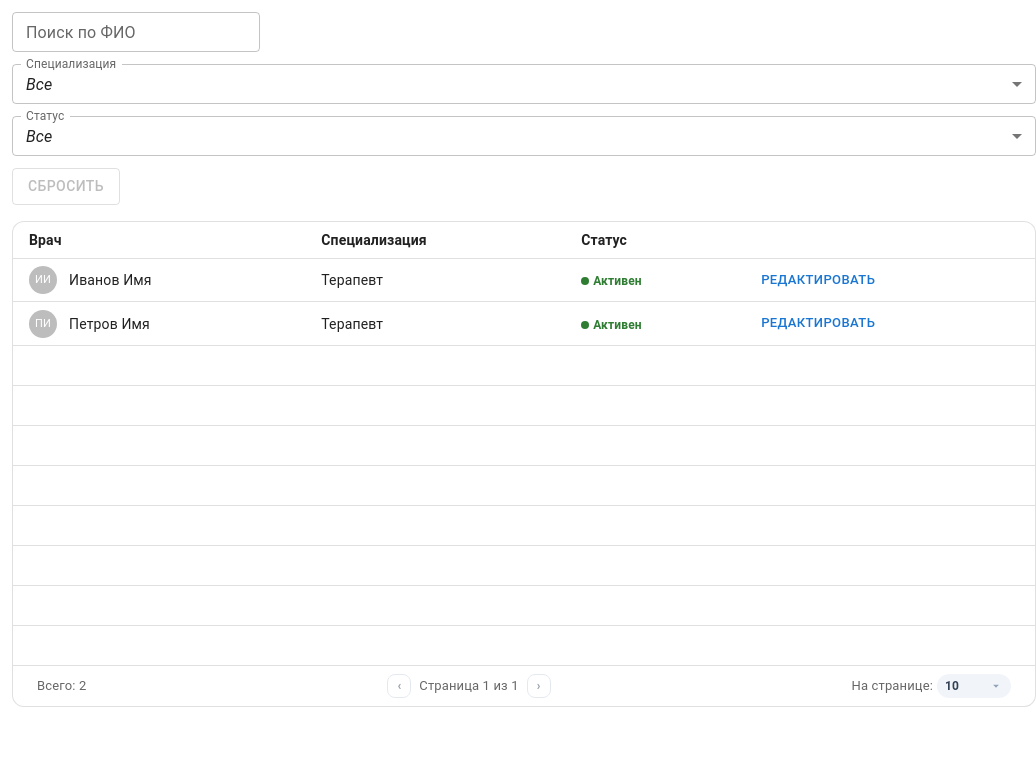
Test: DoctorsTable (3.1: фильтры «специализация/статус» из макета) › фильтр статуса уходит в запрос BFF (status)
Press the mouse on the dropdown named "Статус" at (39, 136), box [26,126,52,146]
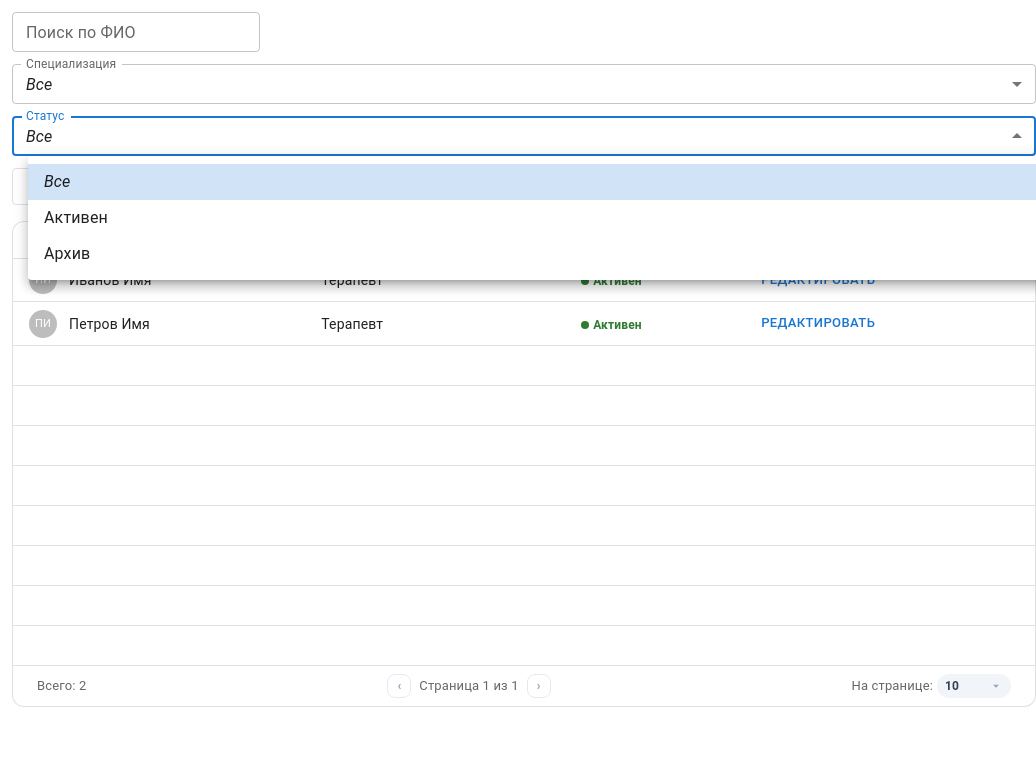
Click the option "Архив" at (67, 254), box [44,244,90,263]
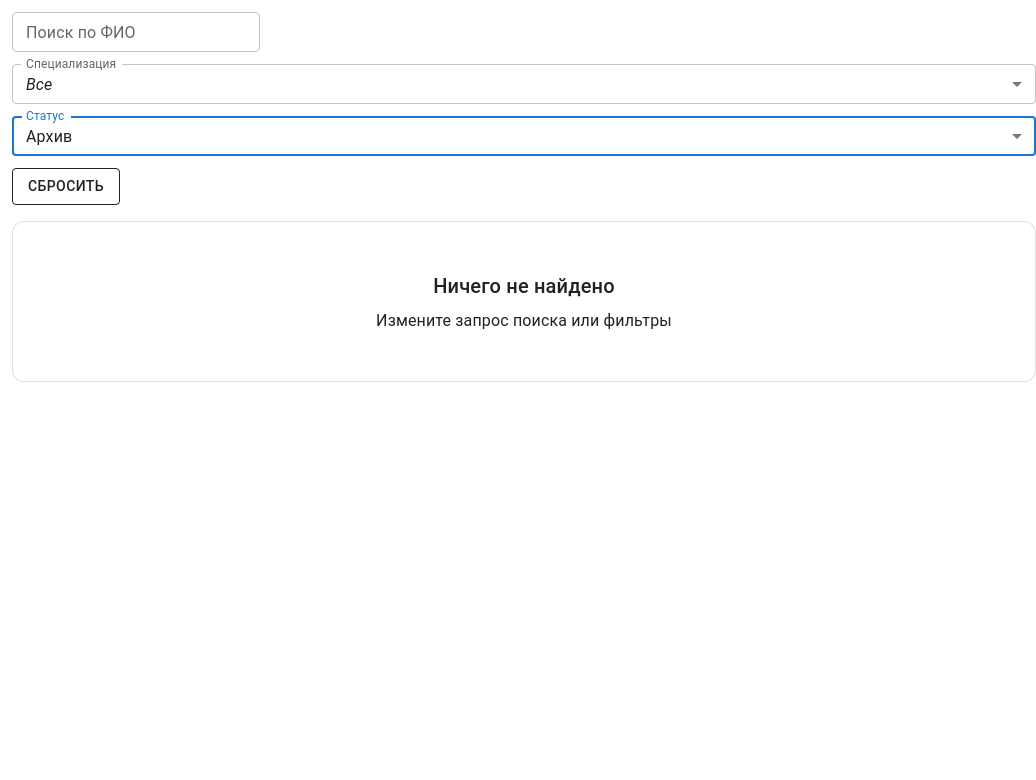
Check: the heading "Ничего не найдено" is shown, box [433,274,615,298]
